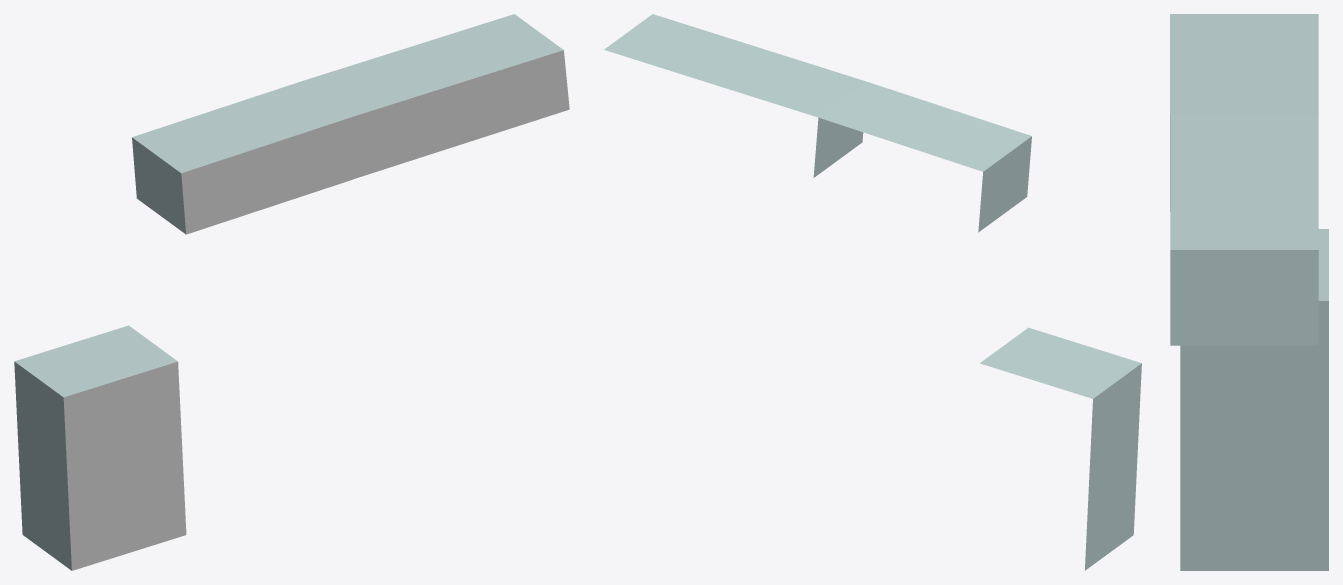
The picture shows the model from 3 angles, left to right: view 1: azimuth 30°, elevation 25°; view 2: azimuth 150°, elevation 25°; view 3: azimuth 270°, elevation 25°; orthographic projection. The views are drawn at different scales.
Visible parts, largest first — view 1: 0_3_2_1_2_0_3_0_0; view 2: 0_3_2_1_2_0_3_0_0; view 3: 0_3_2_1_2_0_3_0_0.
Boxes of the visible parts, box(x1,y1,x2,y2) form: 0_3_2_1_2_0_3_0_0: box(14, 14, 569, 570); 0_3_2_1_2_0_3_0_0: box(604, 14, 1141, 570); 0_3_2_1_2_0_3_0_0: box(1170, 14, 1328, 570).
Size of the model in its own units: 17.64 by 13.55 by 3.21.
